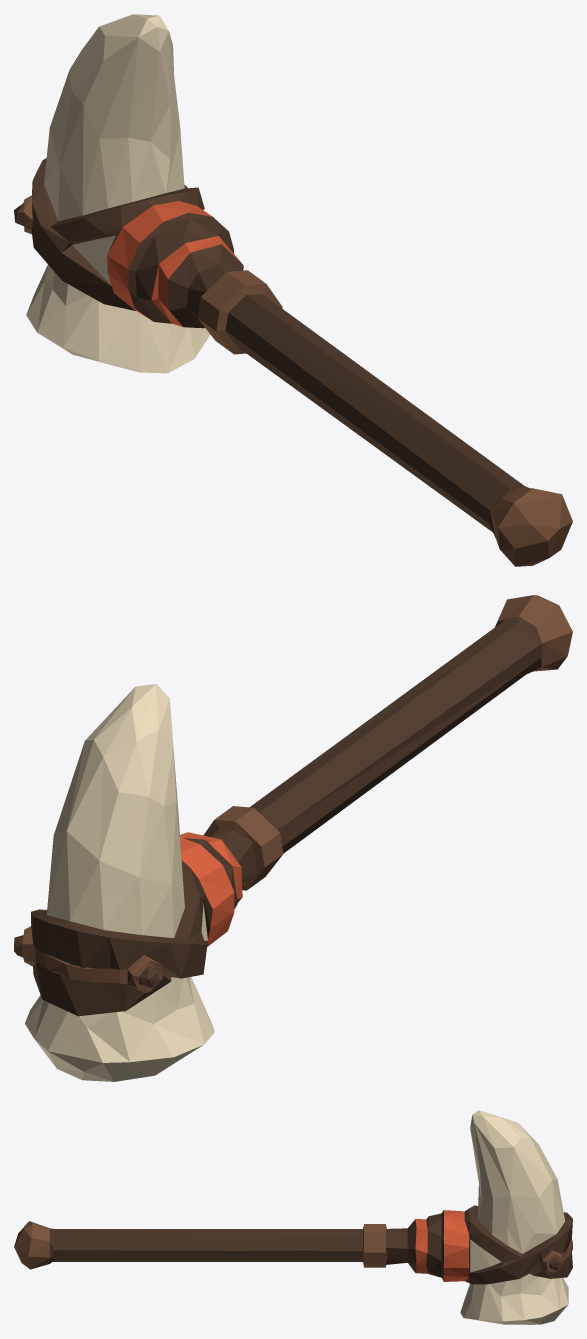
Rendered from GoblinGiantStaff.fbx.
3 views of the same model, one above another, from view 1: azimuth 30°, elevation 25°; view 2: azimuth 150°, elevation 25°; view 3: azimuth 270°, elevation 25° (orthographic). The views are drawn at different scales.
Visible parts, largest first — view 1: Staff; view 2: Staff; view 3: Staff.
Boxes of the visible parts, left/top/right/bottom form: Staff: left=14, top=14, right=572, bottom=566; Staff: left=14, top=595, right=572, bottom=1081; Staff: left=14, top=1110, right=572, bottom=1324.
Bounding box in the file's own units: 20.12 × 99.8 × 40.43.
